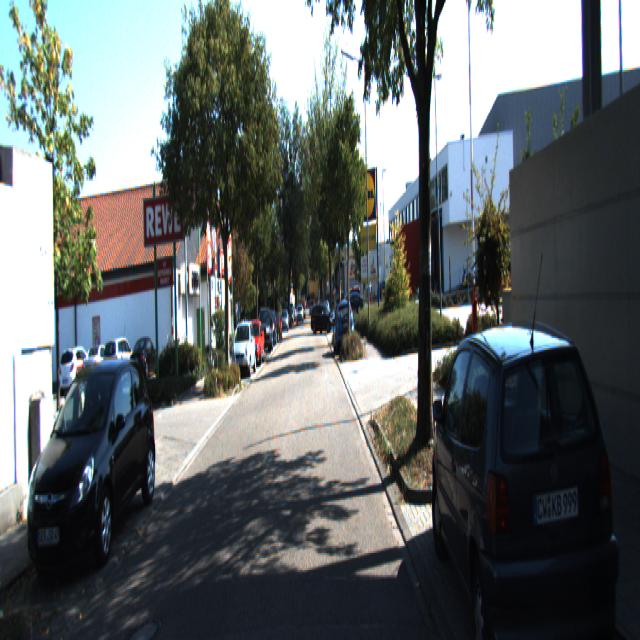Car: (426, 310, 627, 638), (26, 344, 158, 576), (102, 336, 140, 388), (58, 346, 97, 396), (82, 343, 118, 392), (129, 337, 162, 389), (232, 322, 256, 379), (334, 300, 355, 354), (243, 319, 265, 367)
DontCare: (262, 302, 304, 350), (351, 279, 387, 313), (310, 292, 334, 332)
